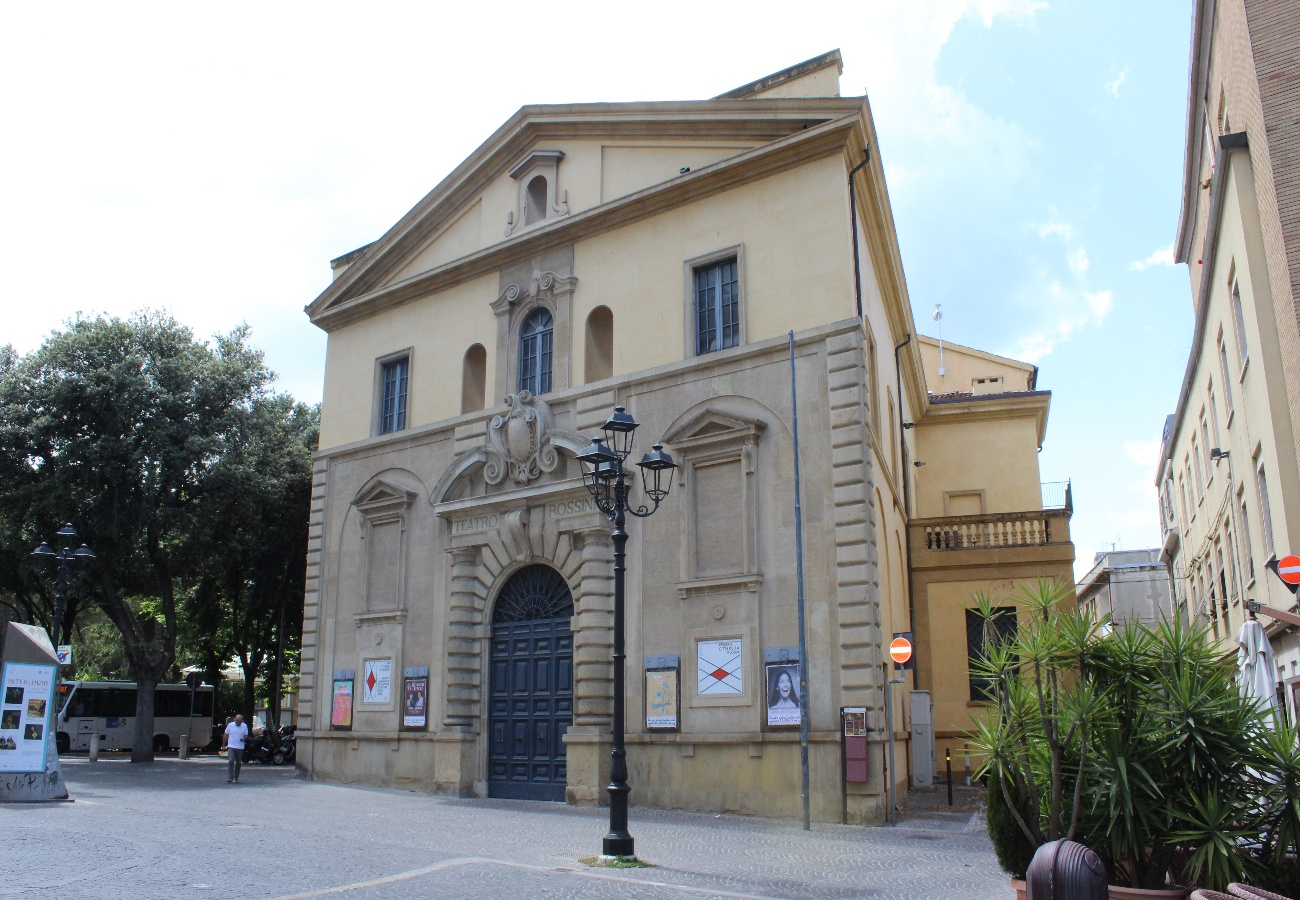Teatro Rossini: (299, 50, 881, 831)
